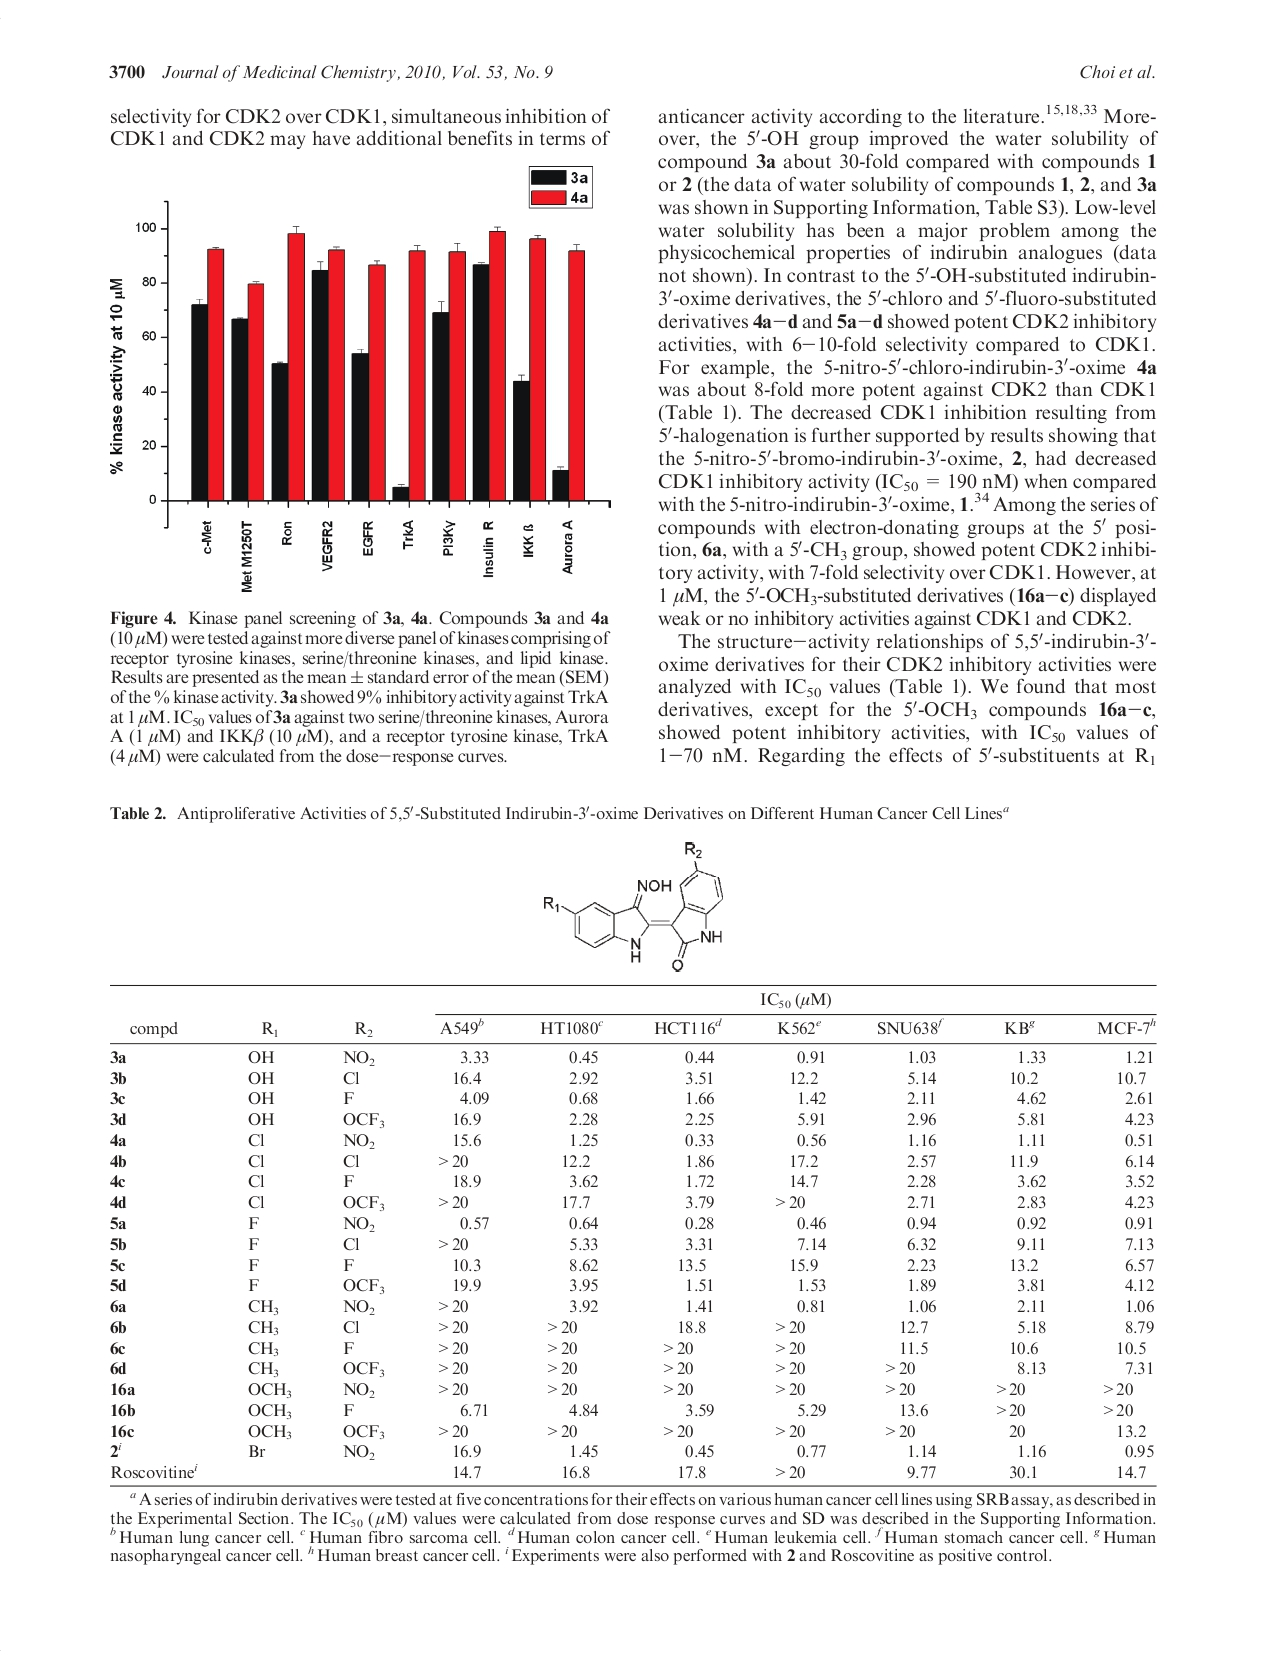exist_molecular: (540, 840, 733, 977)
